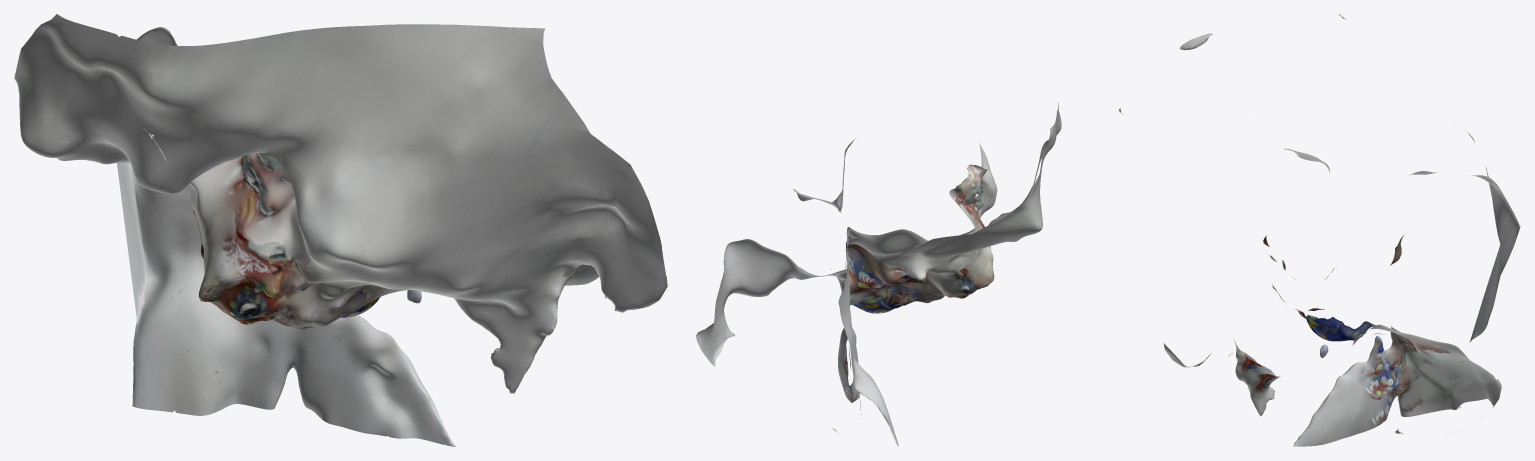
The picture shows the model from 3 angles, left to right: view 1: azimuth 30°, elevation 25°; view 2: azimuth 150°, elevation 25°; view 3: azimuth 270°, elevation 25°; orthographic projection. The views are drawn at different scales.
Size of the model in its own units: 1.33 by 1.22 by 1.24.
Materials: 1 (1 with a texture image).
